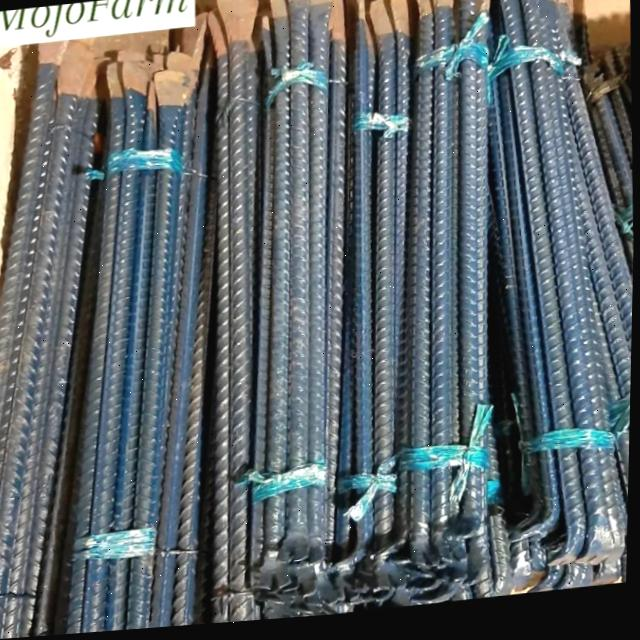crow bar: (114, 64, 202, 633)
